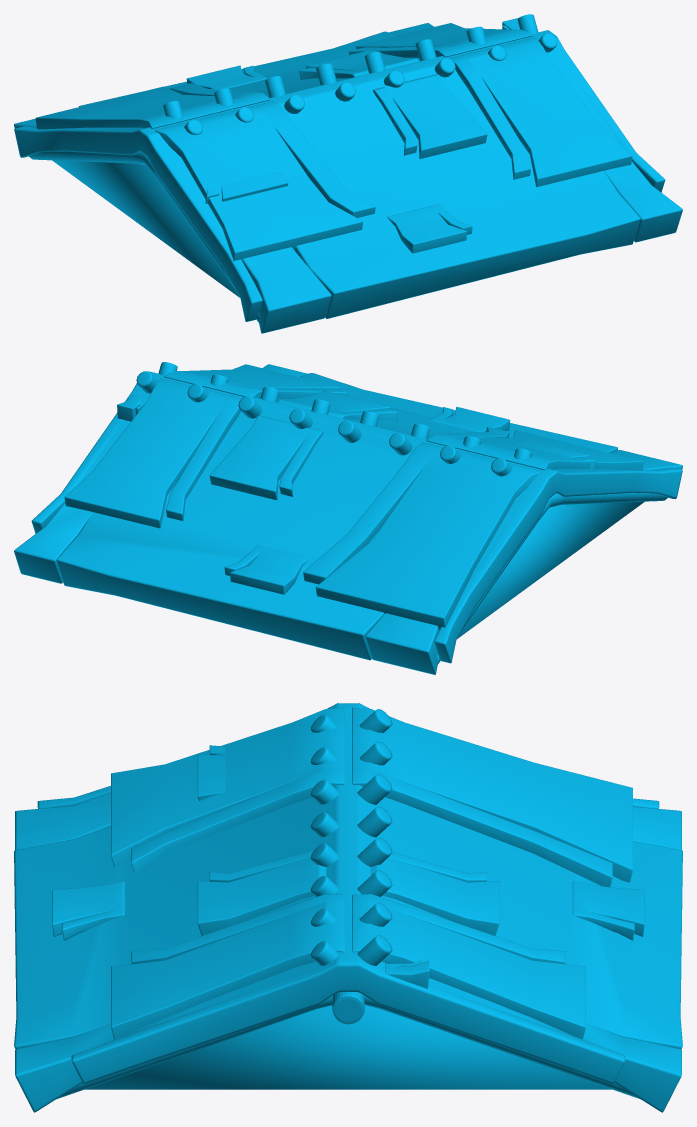
Rendered from SM_Clay_Roof_02.fbx.
3 renders of one model, top to bottom at view 1: azimuth 30°, elevation 25°; view 2: azimuth 150°, elevation 25°; view 3: azimuth 270°, elevation 25°, orthographic. The views are drawn at different scales.
Parts seen in each view (by area): view 1: SM_Clay_Roof_02; view 2: SM_Clay_Roof_02; view 3: SM_Clay_Roof_02.
Part boxes in pixels (x1=…): SM_Clay_Roof_02: x1=14, y1=14, x2=682, y2=333; SM_Clay_Roof_02: x1=14, y1=362, x2=682, y2=674; SM_Clay_Roof_02: x1=14, y1=703, x2=682, y2=1112.
Bounding box in the file's own units: 4.19 × 1.2 × 4.35.
